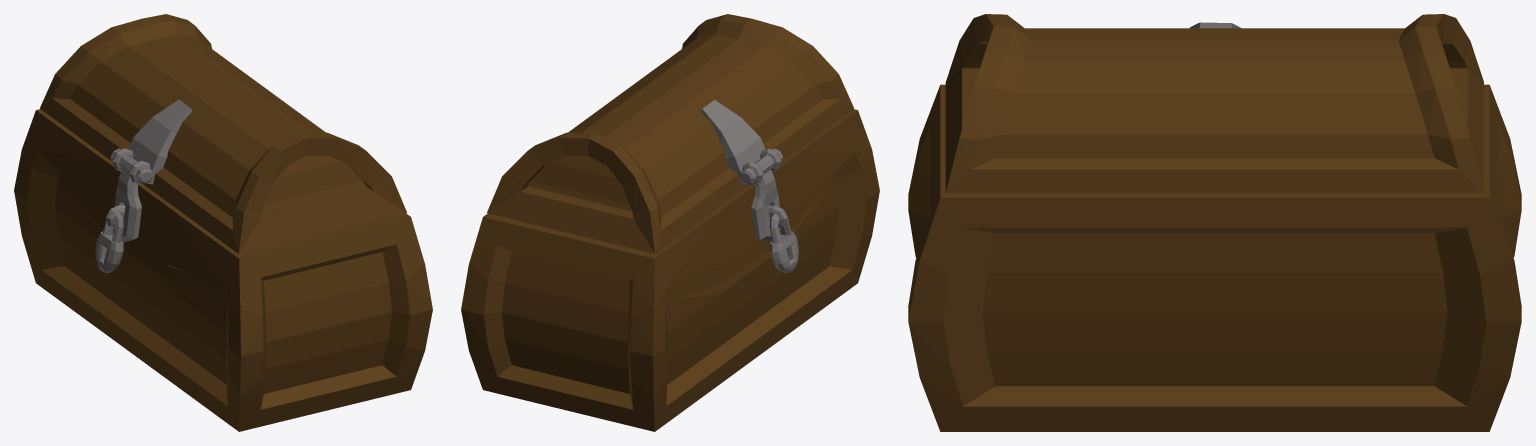
The model's file is sandk.fbx.
3 renders of one model, left to right at view 1: azimuth 30°, elevation 25°; view 2: azimuth 150°, elevation 25°; view 3: azimuth 270°, elevation 25°, orthographic. The views are drawn at different scales.
Parts seen in each view (by area): view 1: Cube.006; view 2: Cube.006; view 3: Cube.006.
Part boxes in pixels (<box>): Cube.006: <box>14,14,432,431</box>; Cube.006: <box>461,14,879,431</box>; Cube.006: <box>908,14,1521,431</box>.
Size of the model in its own units: 265 by 298 by 475.
